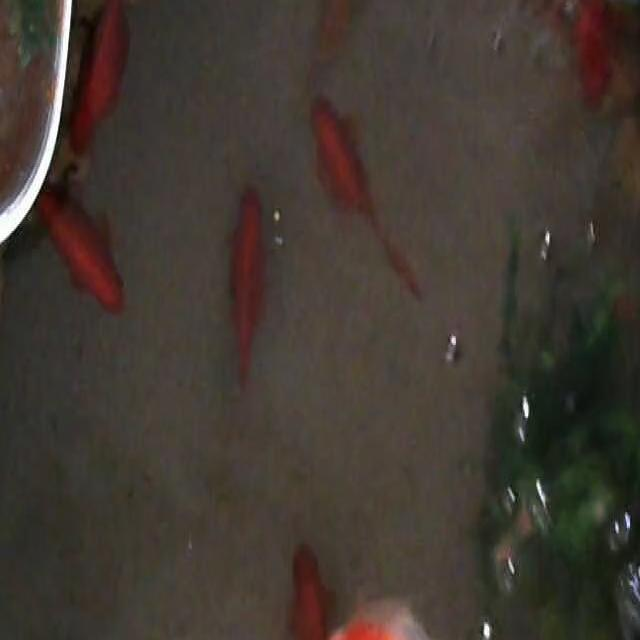fish: (308, 94, 422, 300), (288, 535, 475, 640), (36, 177, 126, 316), (67, 0, 131, 162), (228, 184, 268, 388), (566, 0, 621, 107), (287, 533, 337, 640), (311, 0, 358, 66)
